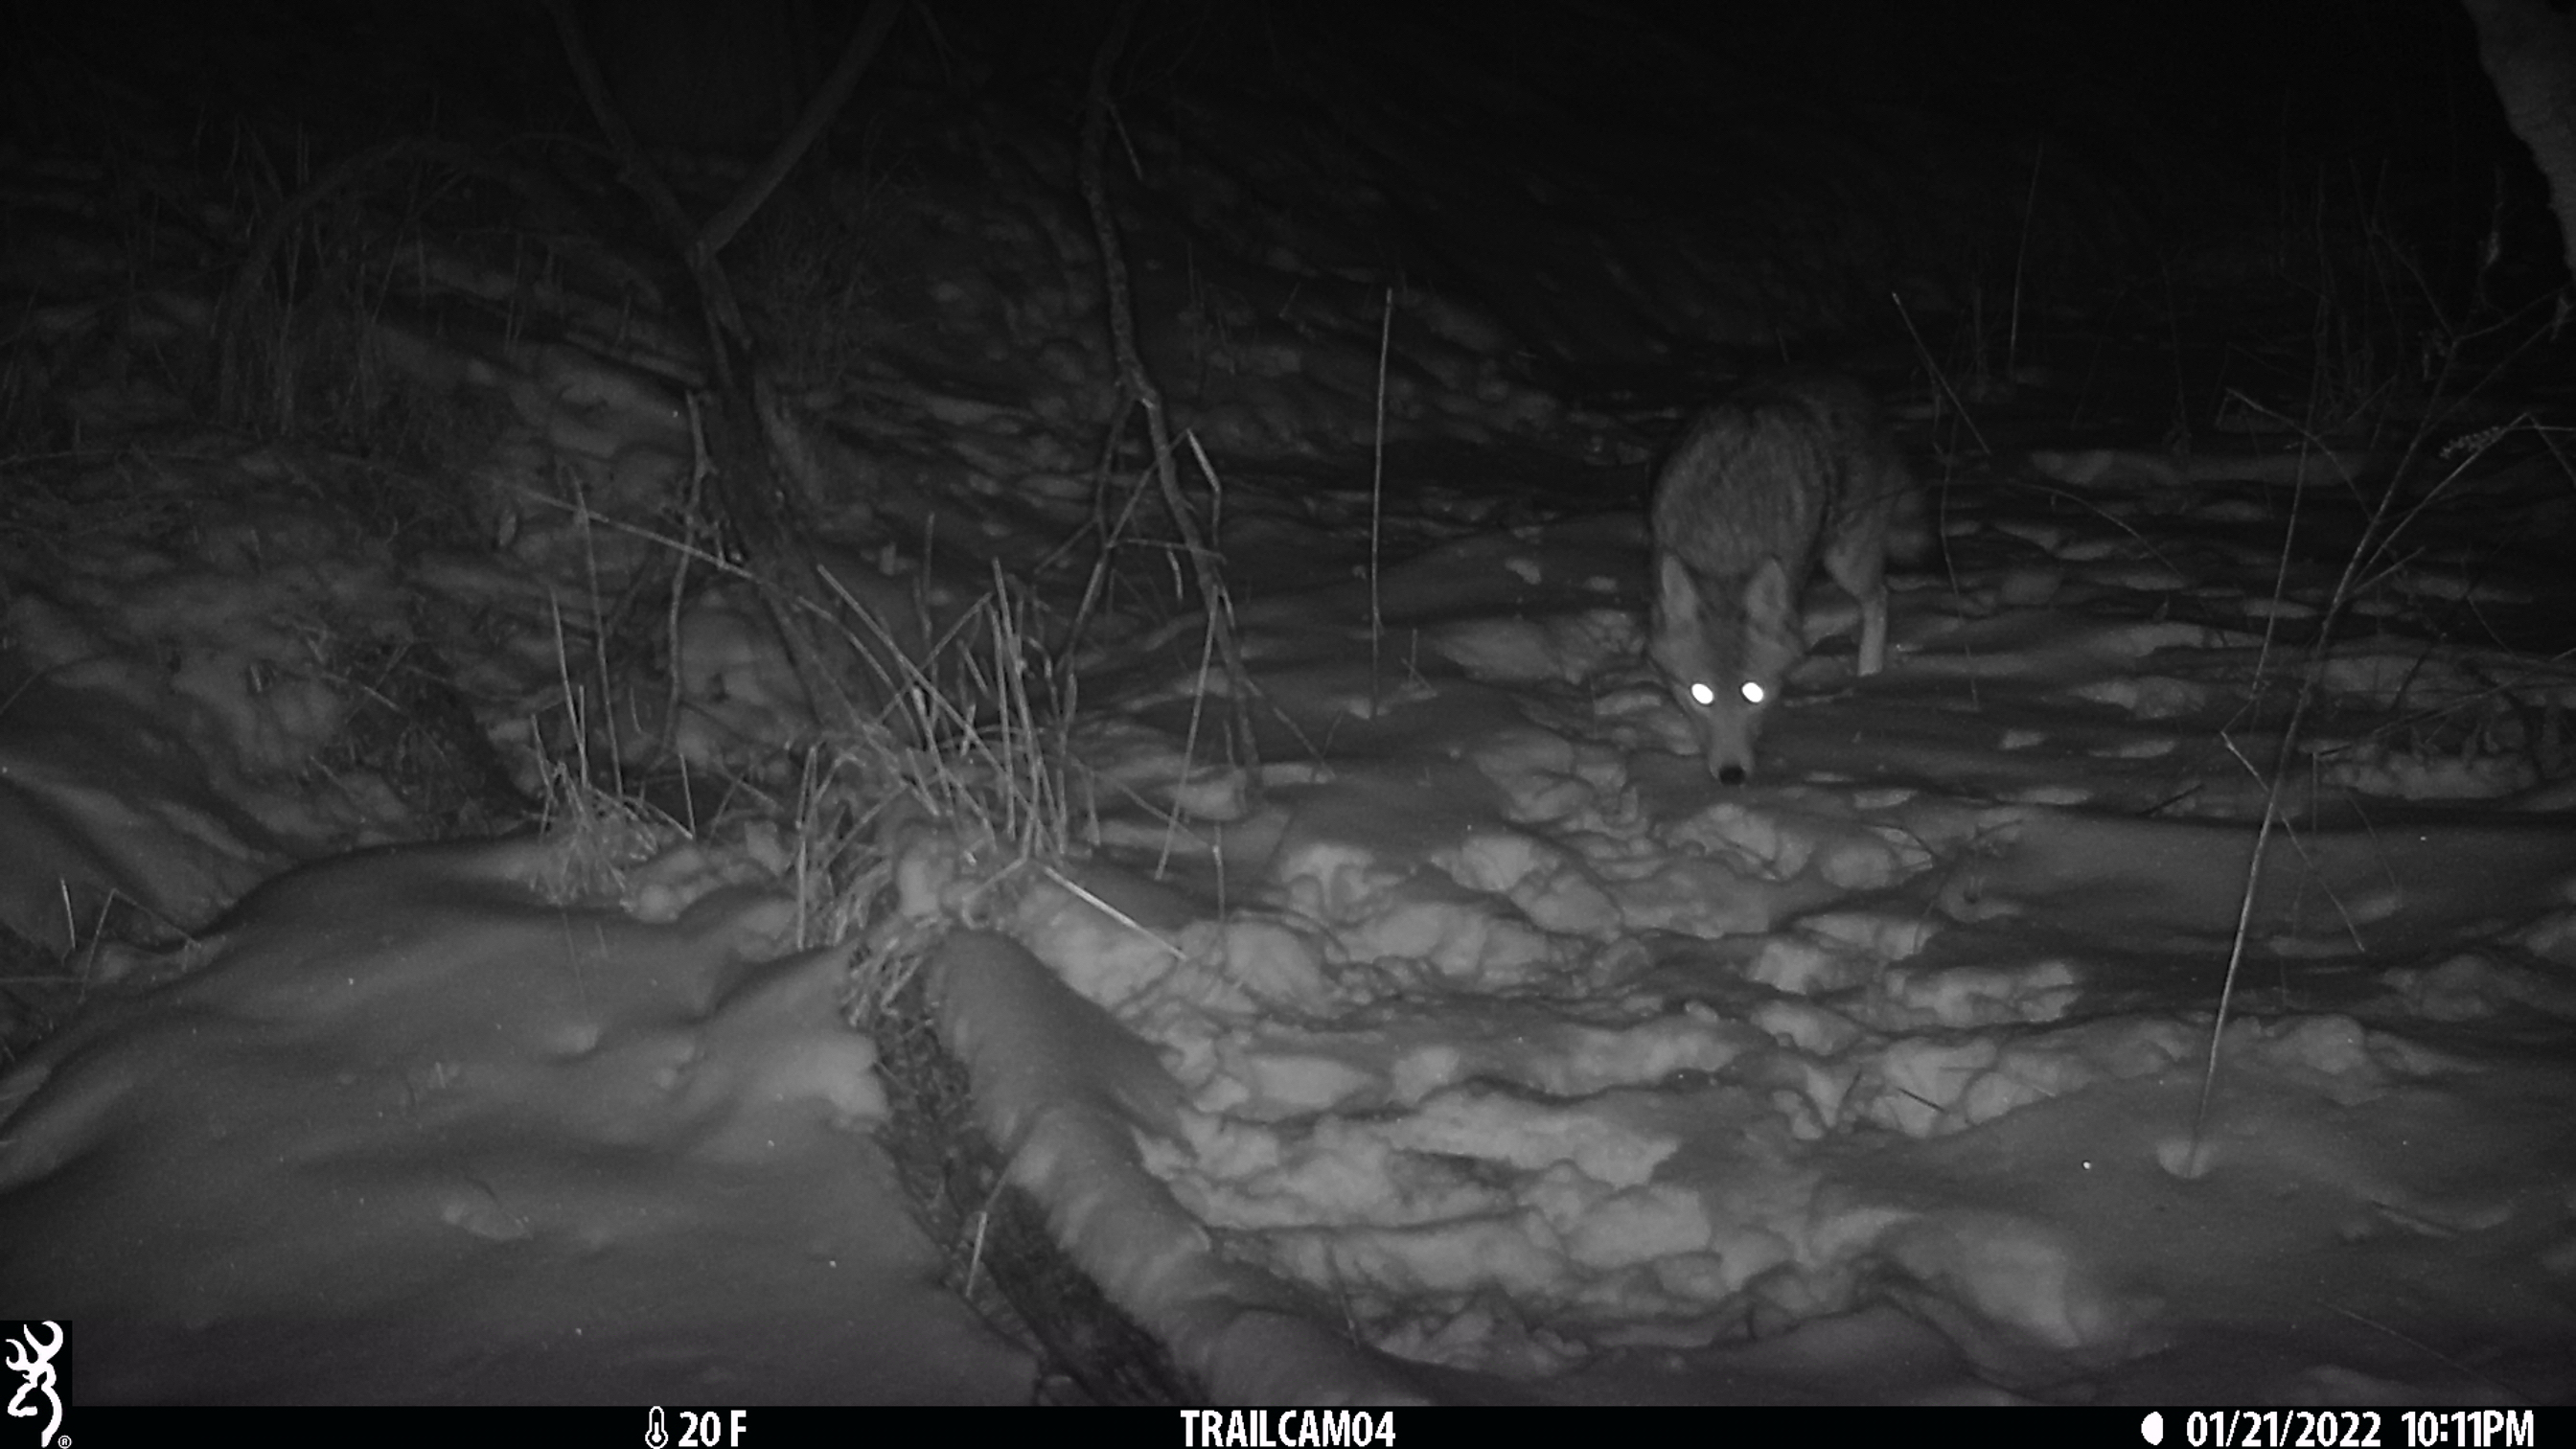Coyote: (1647, 366, 1941, 787)
